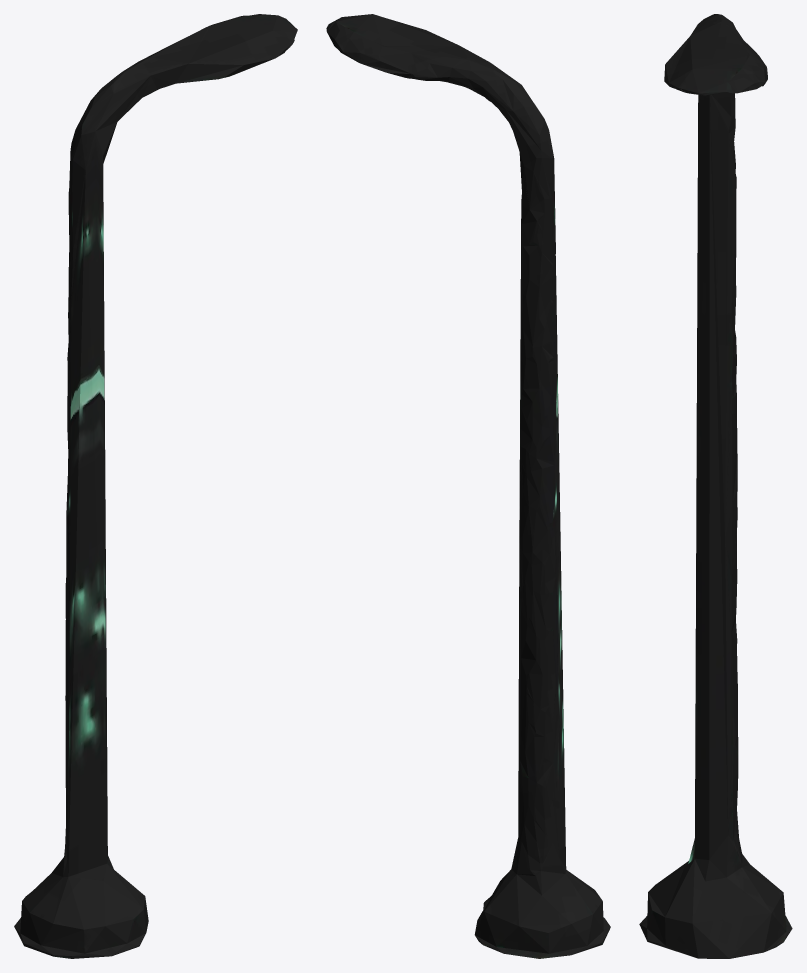
File: prop-street-lamp-lod1.glb
3 renders of one model, left to right at view 1: azimuth 30°, elevation 25°; view 2: azimuth 150°, elevation 25°; view 3: azimuth 270°, elevation 25°, orthographic. The views are drawn at different scales.
Visible parts, largest first — view 1: material; view 2: material; view 3: material.
Part boxes in pixels (bbox=[...]): material: bbox=[14, 14, 297, 958]; material: bbox=[326, 14, 610, 958]; material: bbox=[639, 14, 792, 958].
Bounding box in the file's own units: 0.37 × 1.14 × 0.1655.
1 material, 1 textured.
